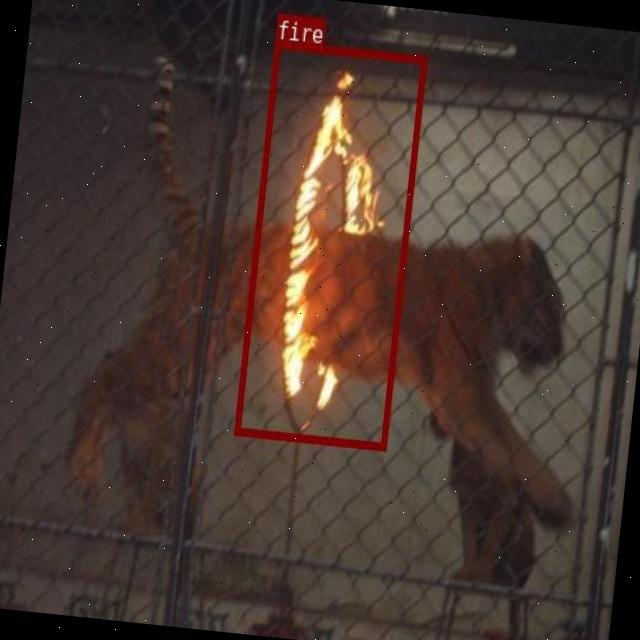fire: (234, 38, 426, 448)
